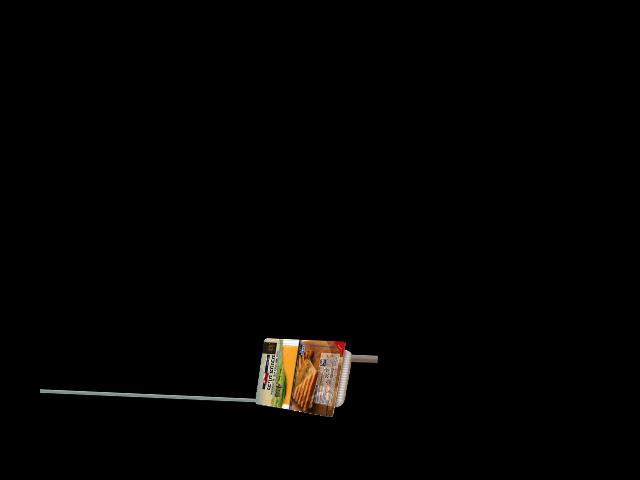cheese: (255, 340, 352, 415)
